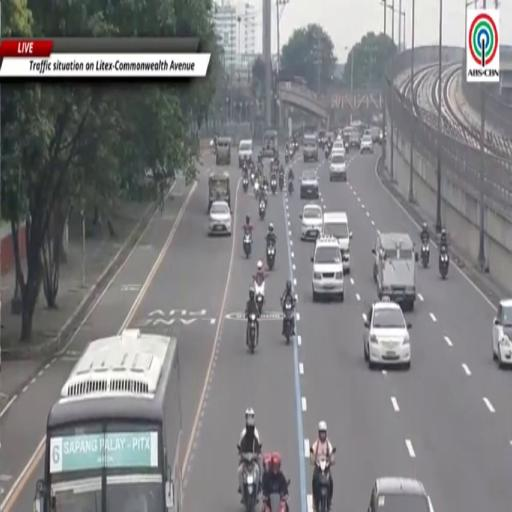bus: (34, 329, 182, 511)
car: (372, 232, 419, 310), (364, 298, 411, 369), (368, 477, 433, 511), (312, 236, 344, 301), (322, 212, 352, 273), (492, 299, 511, 367), (300, 203, 323, 239), (209, 201, 232, 235), (300, 170, 319, 199), (330, 151, 347, 181), (303, 134, 318, 162), (216, 137, 231, 165), (239, 139, 253, 168), (360, 134, 373, 153), (348, 130, 360, 148), (331, 139, 345, 153)
jeepney: (208, 172, 230, 213), (262, 130, 278, 157)
motorcycle: (238, 446, 258, 511), (314, 458, 330, 511), (283, 300, 294, 344), (264, 493, 288, 511), (247, 314, 257, 354), (254, 280, 264, 314), (439, 249, 449, 279), (243, 233, 252, 258), (267, 244, 275, 269), (421, 244, 429, 267), (270, 174, 277, 195), (259, 200, 266, 219), (254, 181, 260, 200), (243, 176, 248, 193), (279, 174, 284, 191), (210, 140, 216, 154), (288, 180, 293, 196), (284, 152, 290, 163), (257, 163, 263, 173), (251, 171, 255, 185), (294, 141, 299, 151), (345, 141, 349, 153), (325, 148, 329, 158)
